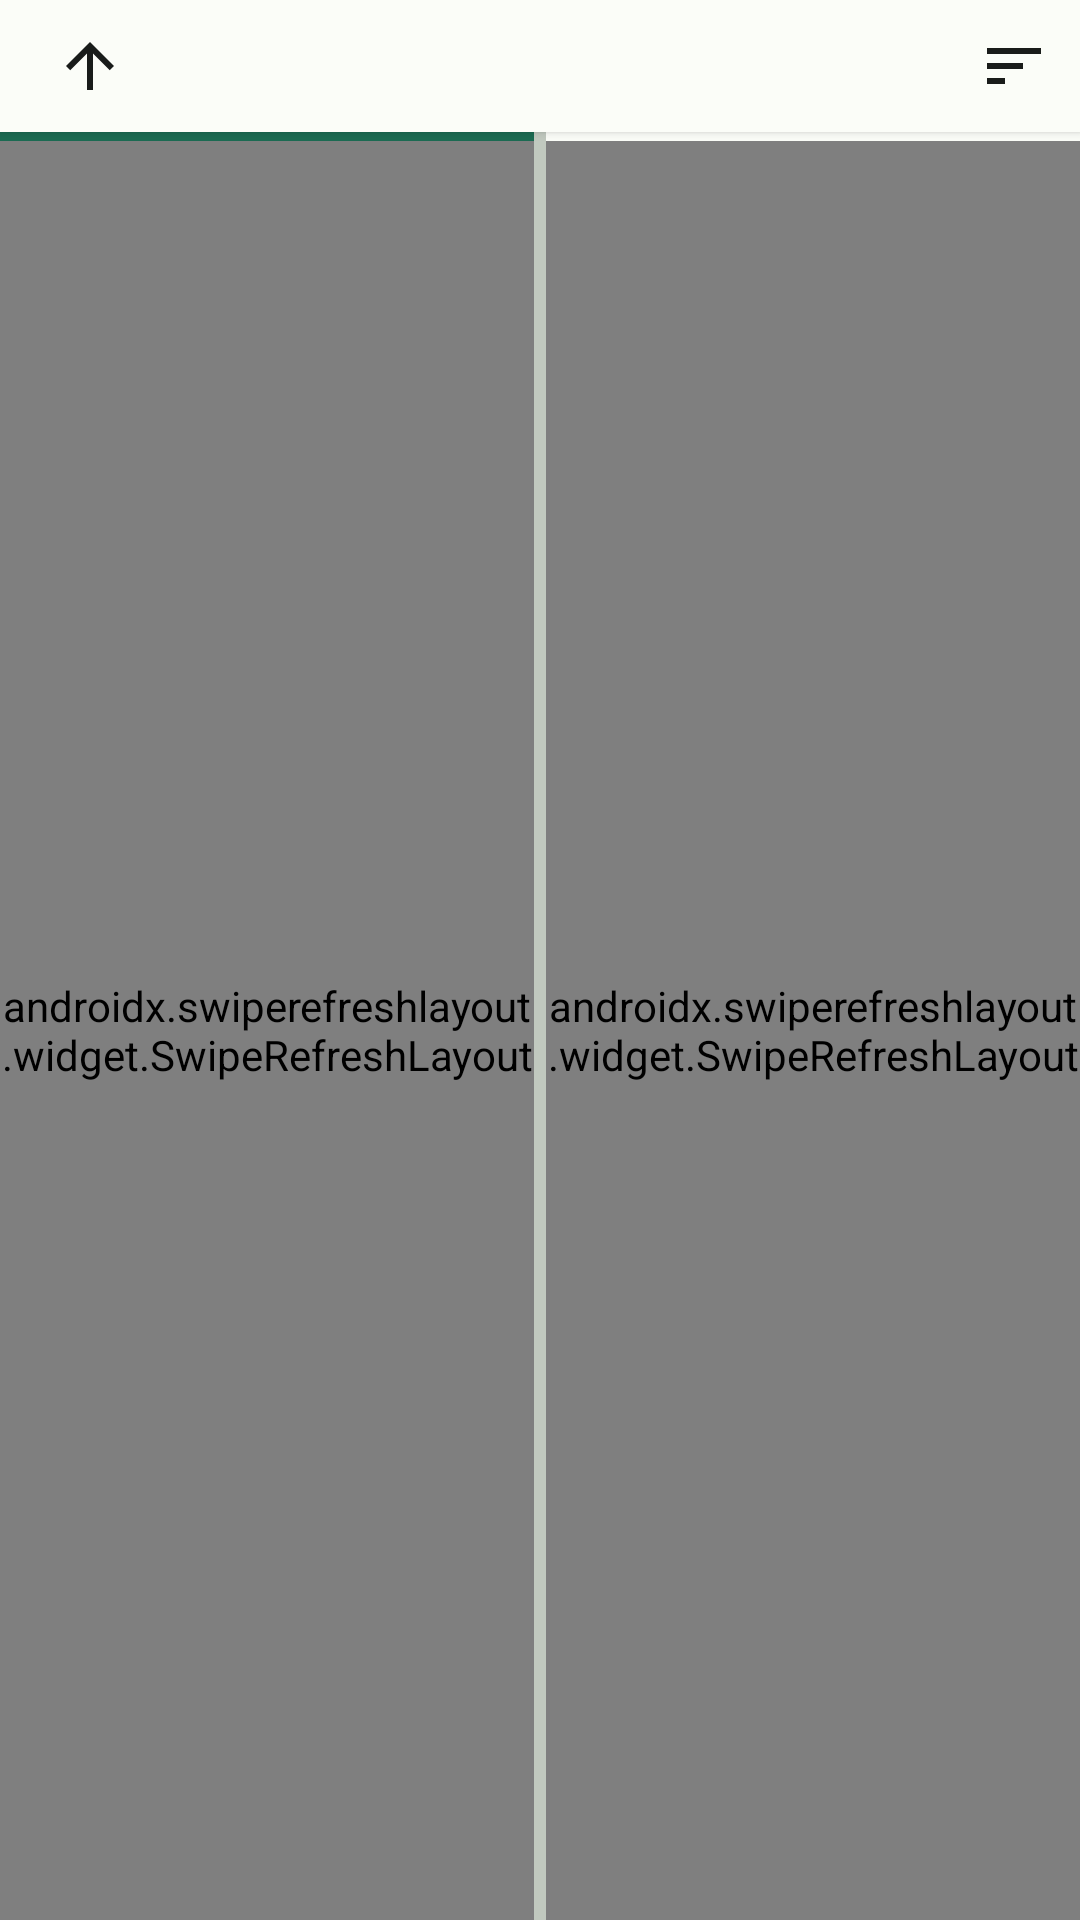

Icons on this 1080 × 1920 Android screen, each with the point to tap as point (x, y):
Sort: point (1014, 66)
Up: point (90, 66)
